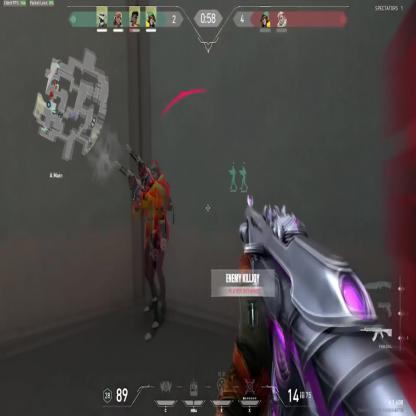enemy: (134, 162, 167, 346)
enemy_head: (150, 161, 160, 180)
